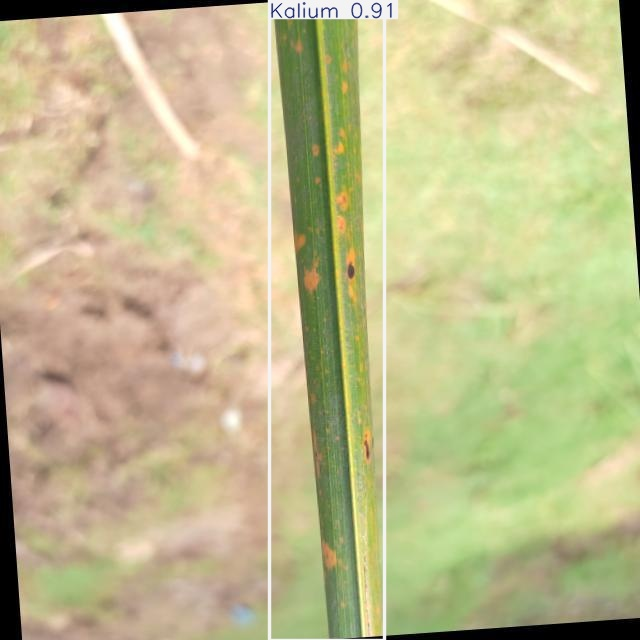Kalium: (270, 0, 385, 640)
